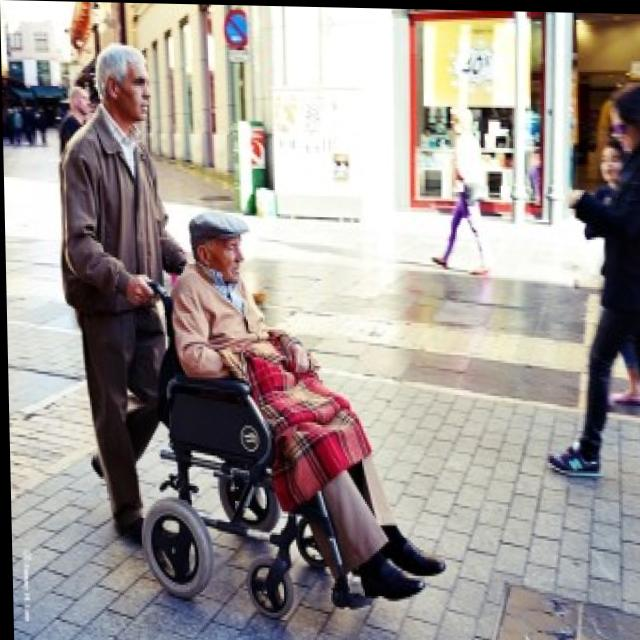wheelchair: (136, 208, 443, 620)
